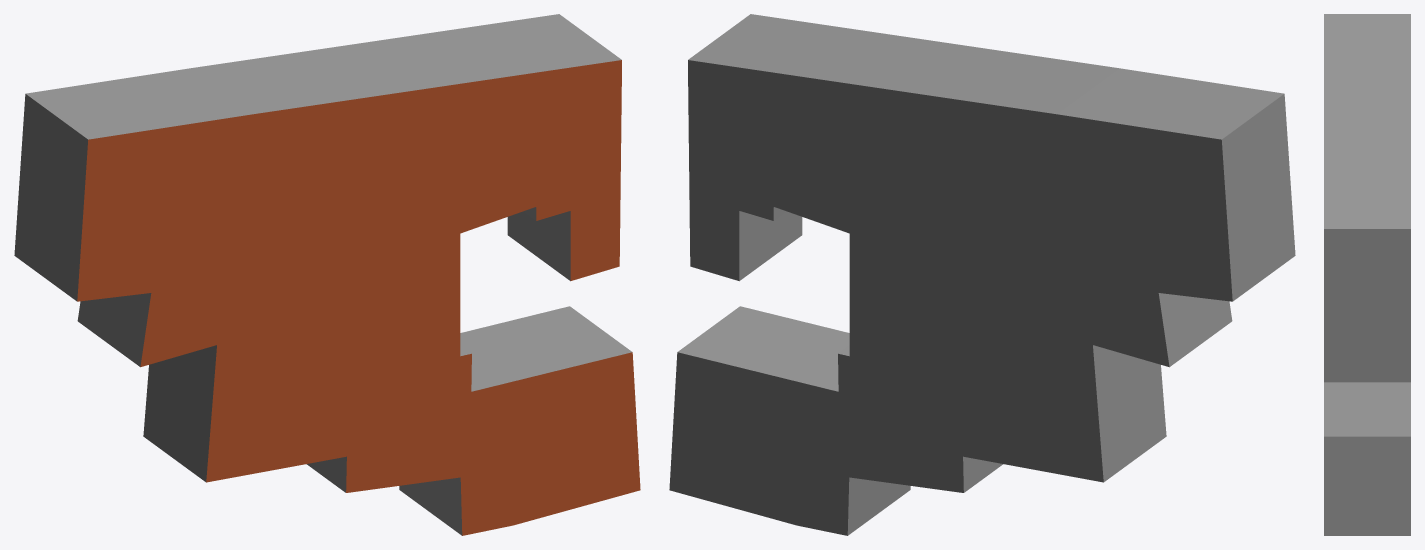
File: construction_6193_assumed_A_Casa_h6m.obj
The picture shows the model from 3 angles, left to right: view 1: azimuth 30°, elevation 25°; view 2: azimuth 150°, elevation 25°; view 3: azimuth 270°, elevation 25°; orthographic projection. The views are drawn at different scales.
Visible parts, largest first — view 1: construction_6193_assumed_A_Casa; view 2: construction_6193_assumed_A_Casa; view 3: construction_6193_assumed_A_Casa.
Boxes of the visible parts, x1,y1,x2,y2 form: construction_6193_assumed_A_Casa: (14,14,640,535); construction_6193_assumed_A_Casa: (669,14,1295,535); construction_6193_assumed_A_Casa: (1324,14,1410,535).
Bounding box in the file's own units: 31.05 × 25.79 × 6.
